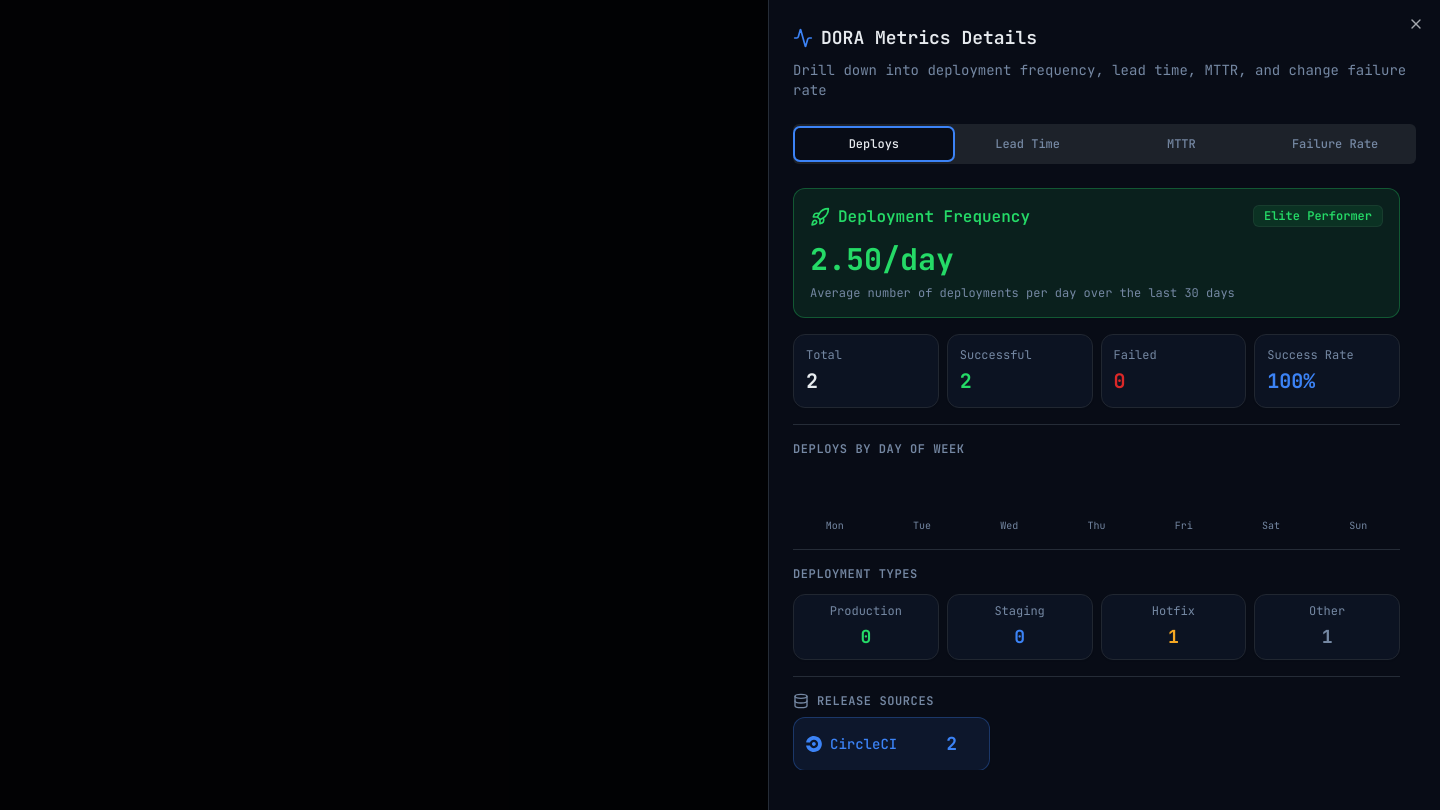
Test: DeploymentFrequencyDetail - Filtering › Deployment type filtering › should filter by hotfix type when clicking Hotfix card
What coordinates should you click on to do the following:
click the button "Hotfix 1"
I would click on:
 (1173, 627)
Its box is [1100,594,1246,660].
(page scrolled)
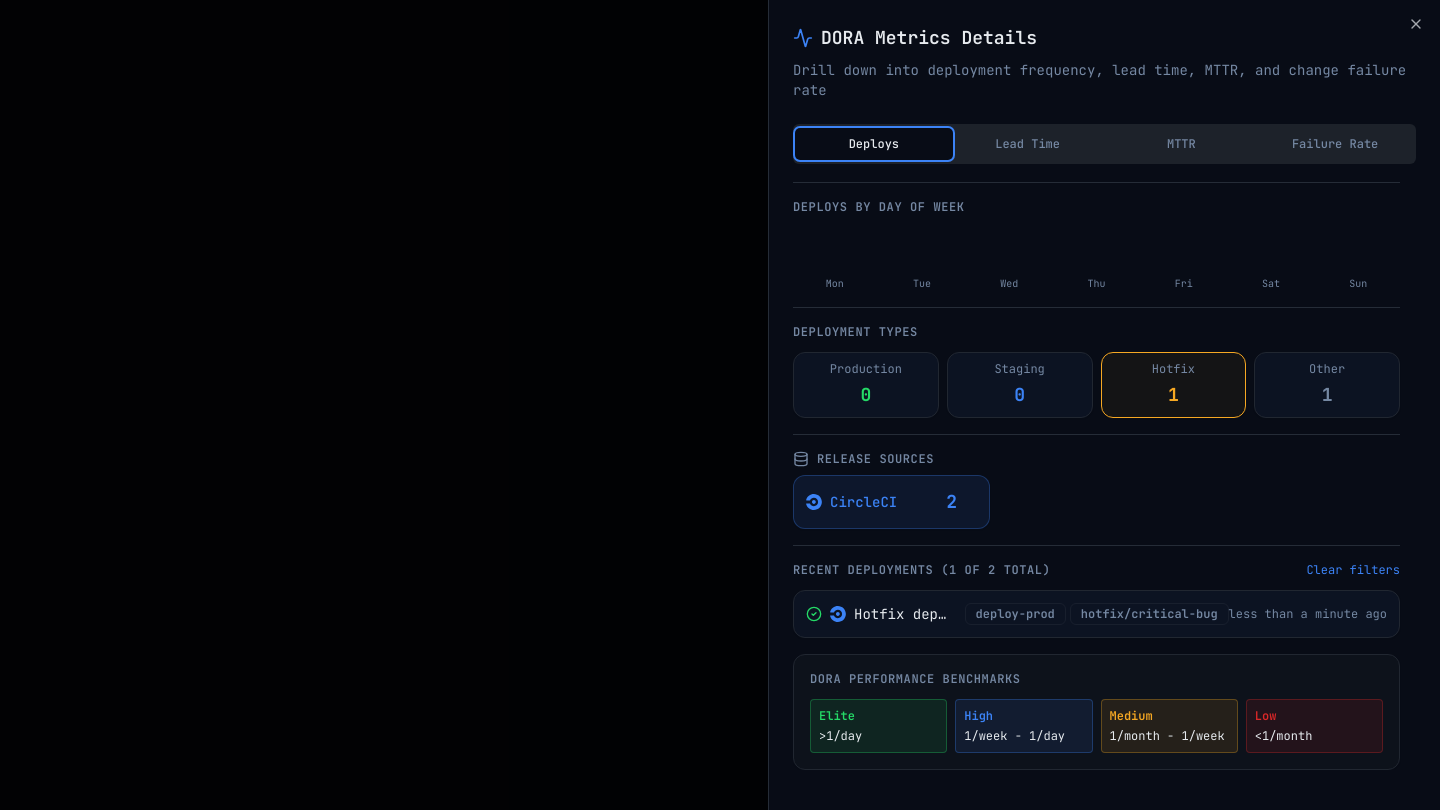
Expected: the text "Hotfix deployment" is shown, [854,604,949,624]
